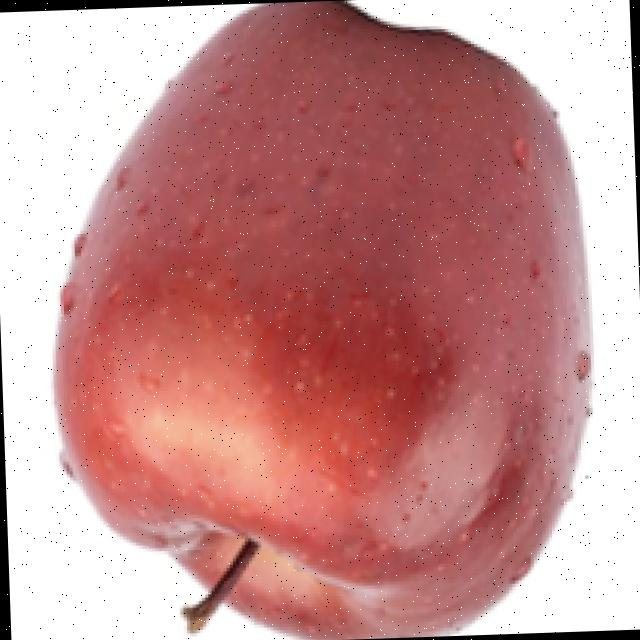apple: (46, 2, 596, 640)
